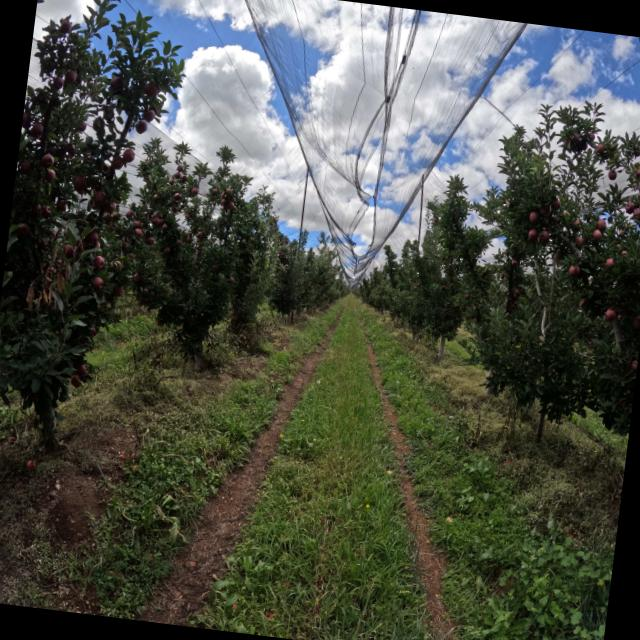-FireBlight-: (36, 247, 56, 309), (25, 282, 34, 310), (55, 271, 64, 293)
